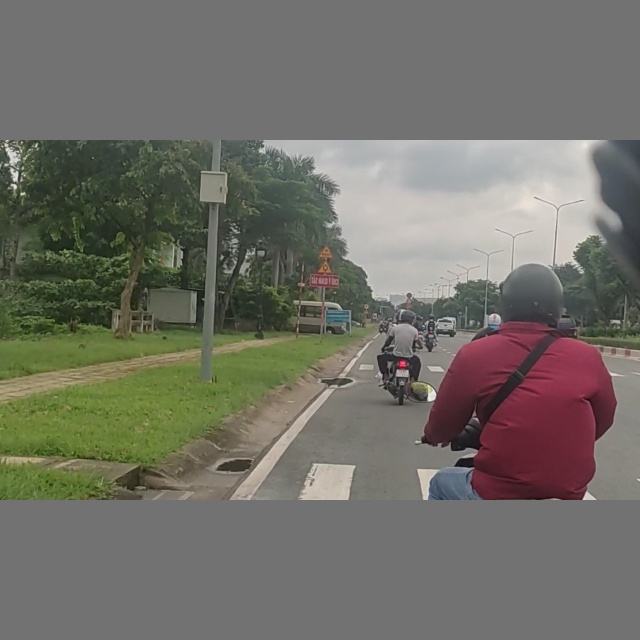P.130: (405, 292, 413, 299)
W.245a: (318, 245, 333, 258)
W.246a: (316, 260, 333, 274)
